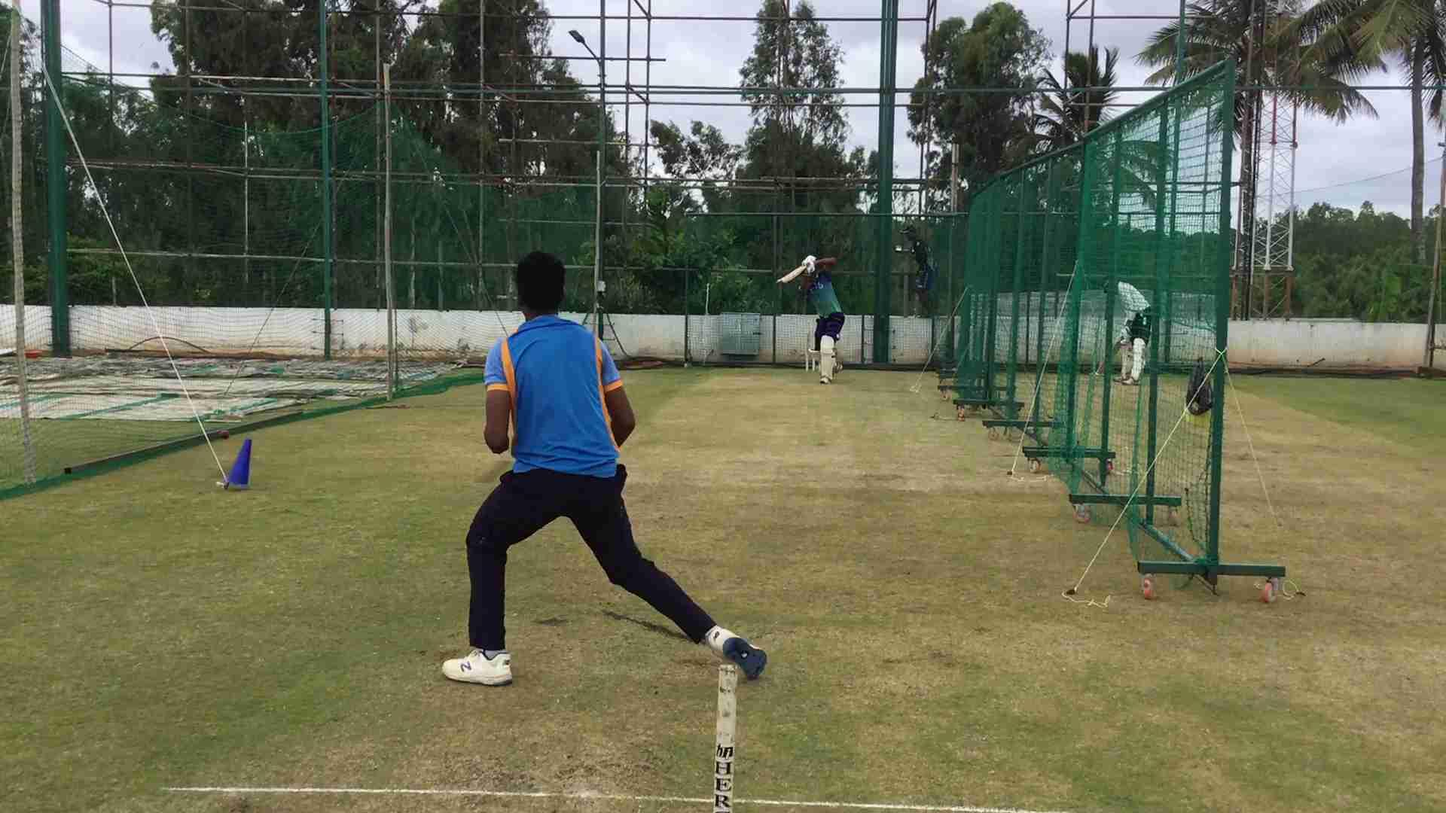batsman: (791, 250, 848, 390)
